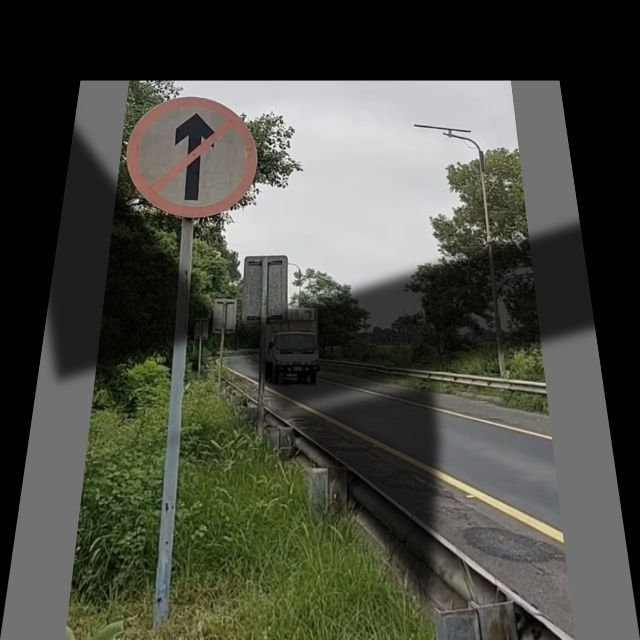No_Entry: (121, 98, 260, 214)
